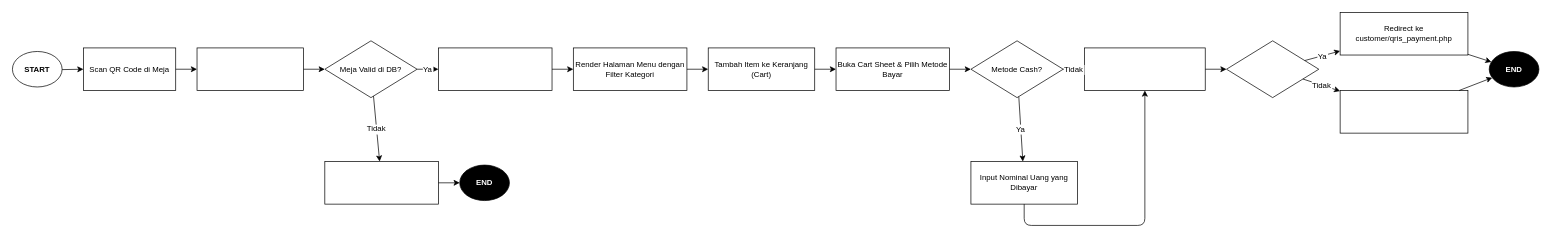
Some shapes in this 1551 by 244 pixel diagram are drawn without their labels. The shapes that lost their labels are listed below. From the top down, each one's centre as x and y in pixels, then its label:
At (250,69): "Buka URL index.php?meja={id}".
At (495,69): "Fetch Menu, Kategori & Promo dari DB".
At (1144,69): "Submit Pesanan (POST api/create_order.php)".
At (1272,69): "Metode QRIS?".
At (1403,111): "Redirect ke customer/order_status.php".
At (381,182): "Halaman Error (Meja Tidak Ditemukan)".
